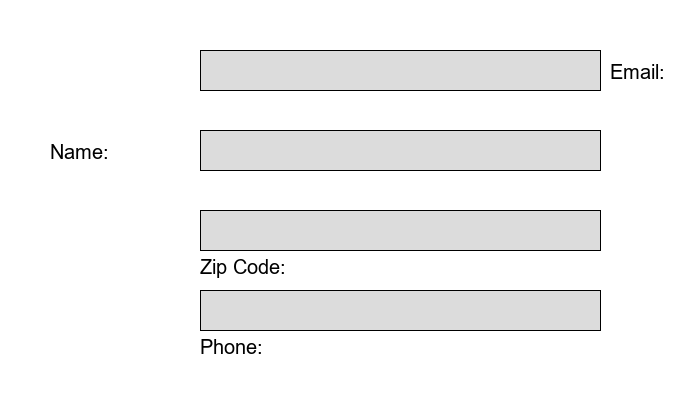Label: (200, 255, 280, 274), (200, 335, 257, 350), (50, 140, 103, 155), (610, 60, 659, 75)
Textbox: (200, 50, 600, 90), (200, 130, 600, 170), (200, 210, 600, 250), (200, 290, 600, 330)
